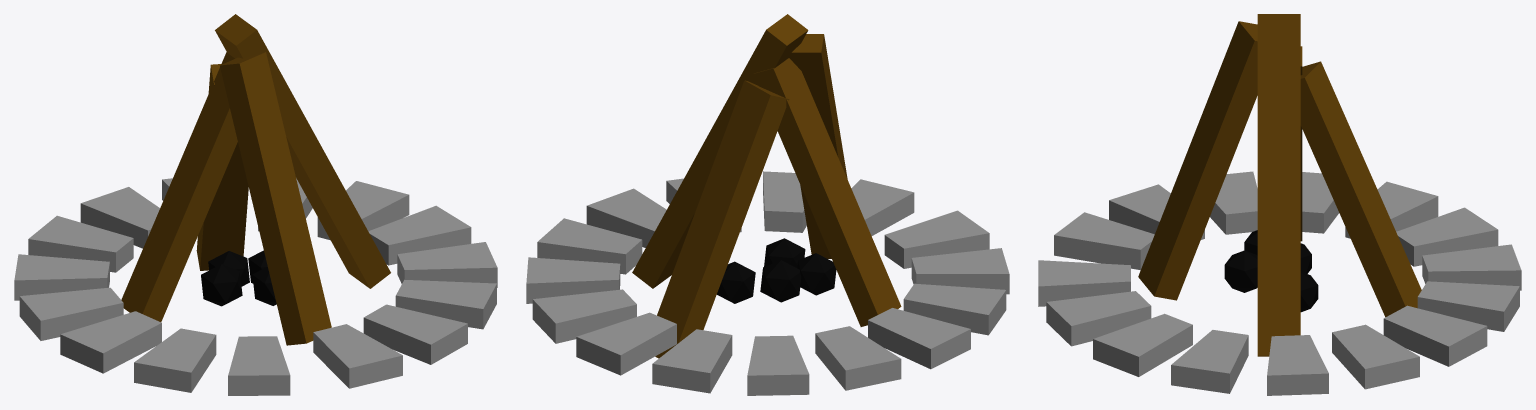
The model's file is low_poly_fireplace.glb.
3 renders of one model, left to right at view 1: azimuth 30°, elevation 25°; view 2: azimuth 150°, elevation 25°; view 3: azimuth 270°, elevation 25°, orthographic.
Visible parts, largest first — view 1: Cube, Cube.004, Cube.002, Cube.001, Cube.003, Icosphere.002, Icosphere.001, Icosphere; view 2: Cube, Cube.003, Cube.002, Cube.001, Cube.004, Icosphere.001, Icosphere.002, Icosphere.003, Icosphere; view 3: Cube, Cube.001, Cube.004, Cube.003, Icosphere, Icosphere.003, Cube.002.
Part boxes in pixels (x1,y1,x2,y2): Cube: (14,178,497,395); Cube.004: (219,52,331,345); Cube.002: (121,52,237,321); Cube.001: (215,14,390,288); Cube.003: (196,64,248,270); Icosphere.002: (201,264,242,306); Icosphere.001: (208,251,249,286); Icosphere: (252,267,276,305); Cube: (526,171,1009,395); Cube.003: (655,80,789,358); Cube.002: (753,58,901,326); Cube.001: (632,14,808,288); Cube.004: (789,34,847,258); Icosphere.001: (760,260,801,302); Icosphere.002: (797,253,836,295); Icosphere.003: (717,261,755,303); Icosphere: (764,238,805,267); Cube: (1038,171,1521,395); Cube.001: (1257,14,1300,356); Cube.004: (1138,21,1257,300); Cube.003: (1300,61,1421,317); Icosphere: (1224,250,1257,292); Icosphere.003: (1300,272,1318,312); Cube.002: (1300,46,1302,241).
Size of the model in its own units: 2.47 by 1.71 by 2.47.
